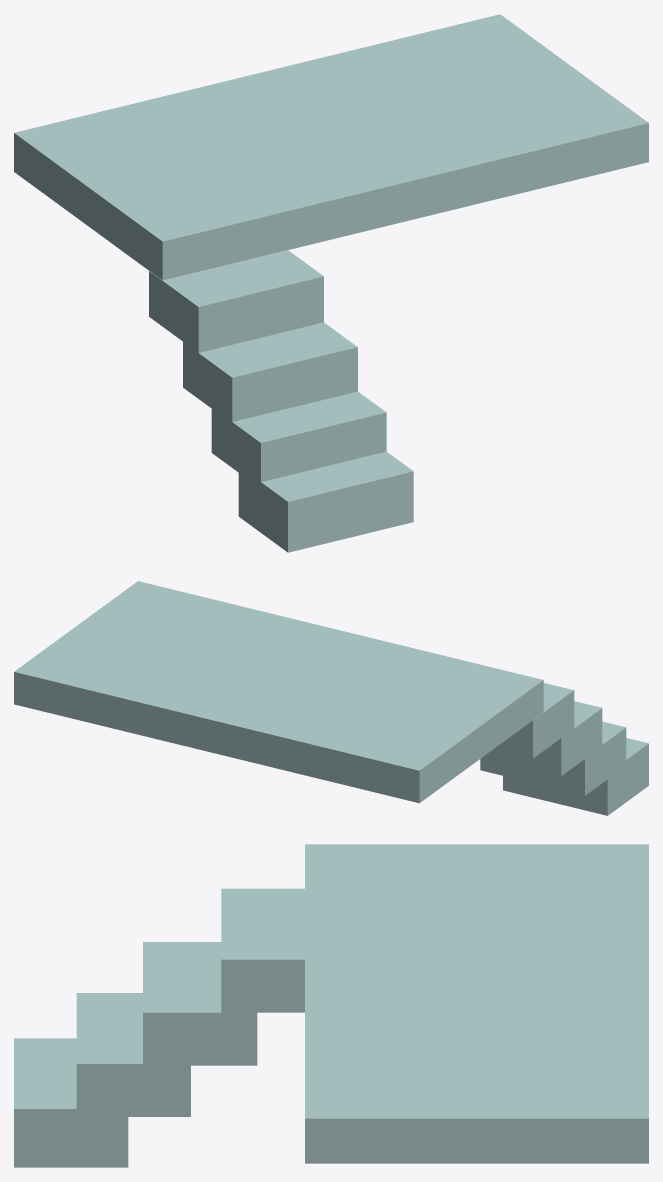
Rendered from tutorial_grapple_platforms.fbx.
The picture shows the model from 3 angles, top to bottom: view 1: azimuth 30°, elevation 25°; view 2: azimuth 150°, elevation 25°; view 3: azimuth 270°, elevation 25°; orthographic projection. The views are drawn at different scales.
Visible parts, largest first — view 1: platform, platform11, platform14, platform12, platform13; view 2: platform, platform14, platform13, platform12, platform11; view 3: platform, platform12, platform14, platform13, platform11.
Part boxes in pixels (<box>): platform: <box>14,14,648,280</box>; platform11: <box>149,250,323,352</box>; platform14: <box>238,451,413,552</box>; platform12: <box>183,322,357,421</box>; platform13: <box>211,391,386,486</box>; platform: <box>14,581,543,803</box>; platform14: <box>503,738,648,815</box>; platform13: <box>480,721,626,795</box>; platform12: <box>483,701,602,776</box>; platform11: <box>494,683,574,758</box>; platform: <box>305,844,648,1163</box>; platform12: <box>143,942,257,1065</box>; platform14: <box>14,1038,128,1167</box>; platform13: <box>76,993,190,1116</box>; platform11: <box>221,888,304,1012</box>.
Size of the model in its own units: 9.23 by 3.97 by 9.02.
